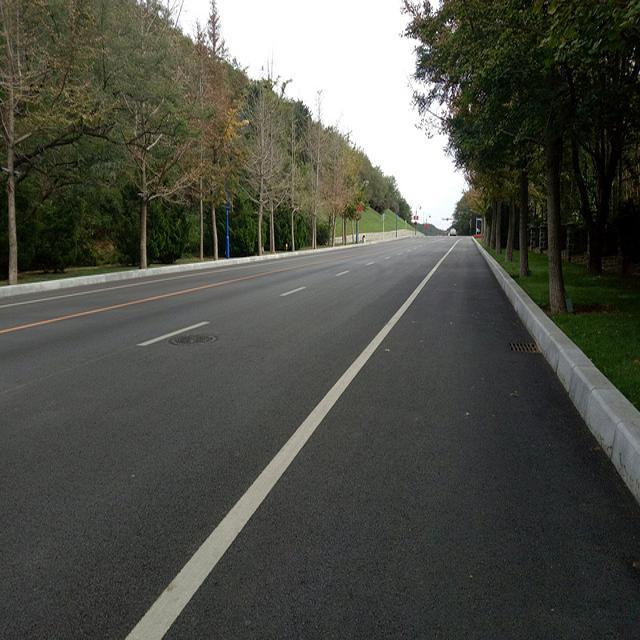curb: (477, 243, 639, 502), (0, 248, 332, 299)
